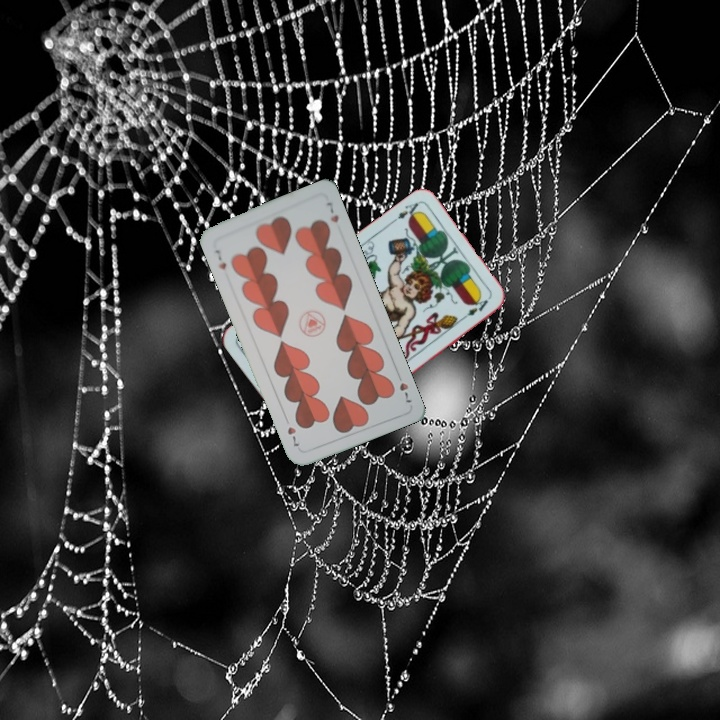EA: (386, 198, 423, 227)
H7: (392, 368, 415, 405), (211, 246, 229, 272)
